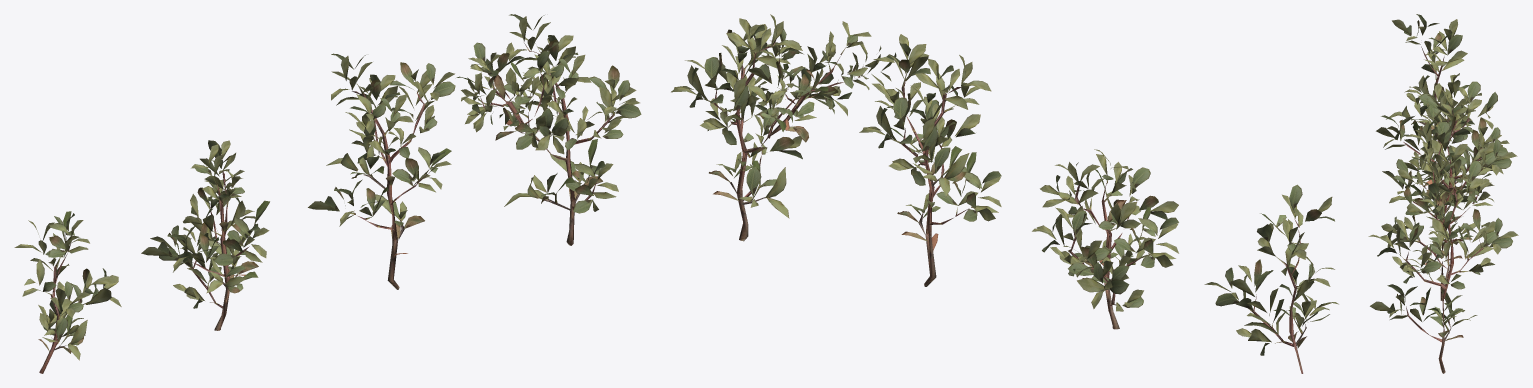
The model's file is shrub_04.glb.
3 views of the same model, side by side, from view 1: azimuth 30°, elevation 25°; view 2: azimuth 150°, elevation 25°; view 3: azimuth 270°, elevation 25° (orthographic). The views are drawn at different scales.
Parts seen in each view (by area): view 1: shrub_04; view 2: shrub_04; view 3: shrub_04.
Part boxes in pixels (x1,y1,x2,y2): shrub_04: (14, 14, 641, 373); shrub_04: (671, 14, 1338, 373); shrub_04: (1368, 14, 1518, 373).
Size of the model in its own units: 0.5837 by 0.2192 by 0.1461.
1 material, 1 textured.
